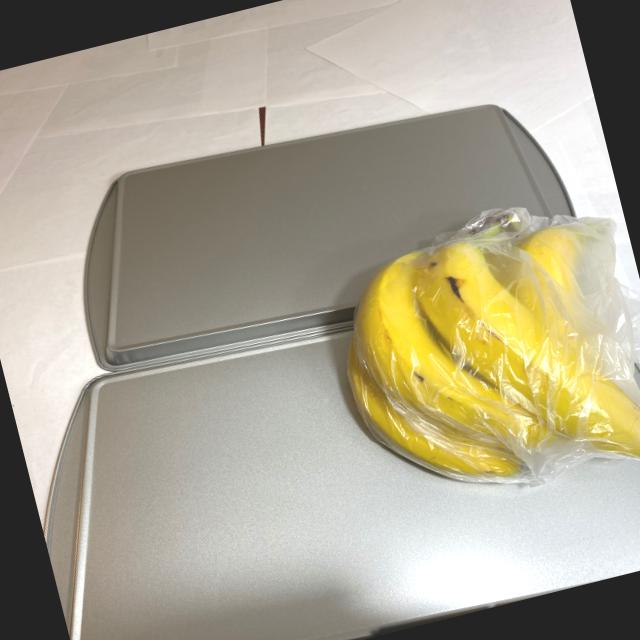banana: (303, 176, 640, 531)
